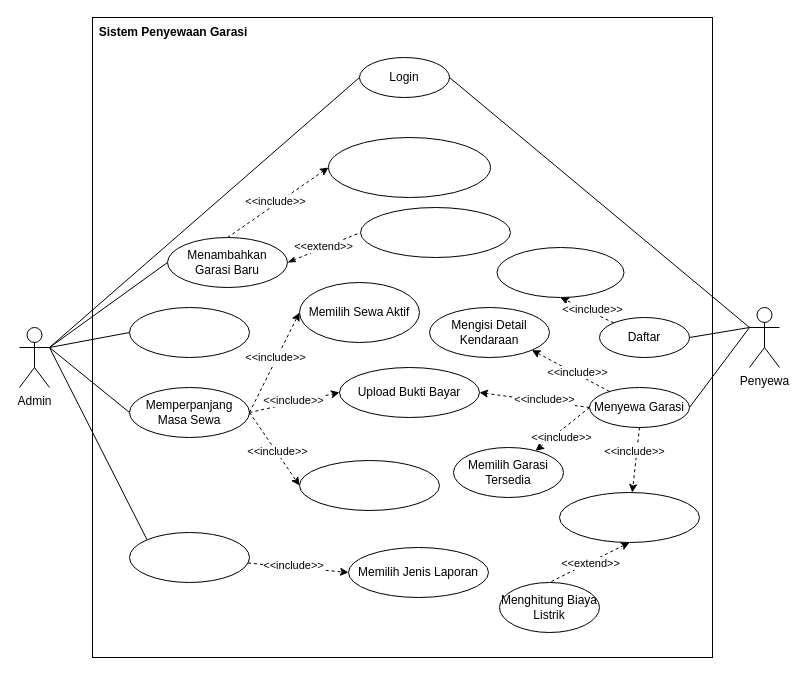
Image size: 806x675. Some labels were removed from this diagram. The shapes that lost their labels are listed below. From the top down, each one's box as (x1, y1, x2, y2) in pixels, then its label:
(328, 136, 490, 198): Memasukkan Tipe, Jumlah, dan Harga Sewa
(360, 206, 510, 258): Memasukkan Harga per KWH
(496, 246, 624, 298): Memasukkan Data Penyewa
(128, 306, 250, 358): Memverifikasi Pendaftar Baru
(298, 460, 440, 510): Memasukkan Tanggal Selesai Baru
(558, 492, 700, 542): Melihat Total Biaya Sewa
(128, 532, 250, 582): Melihat Laporan Sewa Garasi
